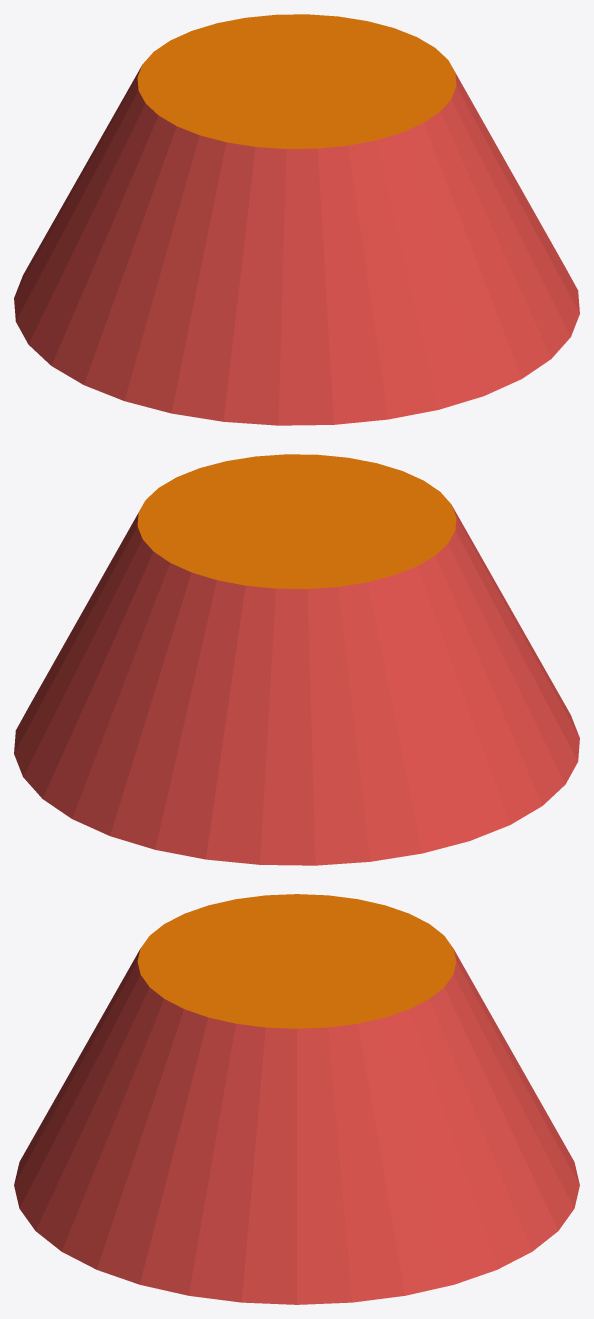
File: 1_cone_circule.glb
The picture shows the model from 3 angles, top to bottom: view 1: azimuth 30°, elevation 25°; view 2: azimuth 150°, elevation 25°; view 3: azimuth 270°, elevation 25°; orthographic projection.
Parts seen in each view (by area): view 1: Cone; view 2: Cone; view 3: Cone.
Boxes of the visible parts, x1,y1,x2,y2 form: Cone: (14, 14, 579, 425); Cone: (14, 454, 579, 865); Cone: (14, 894, 579, 1304).
Bounding box in the file's own units: 2 × 0.8729 × 2.
